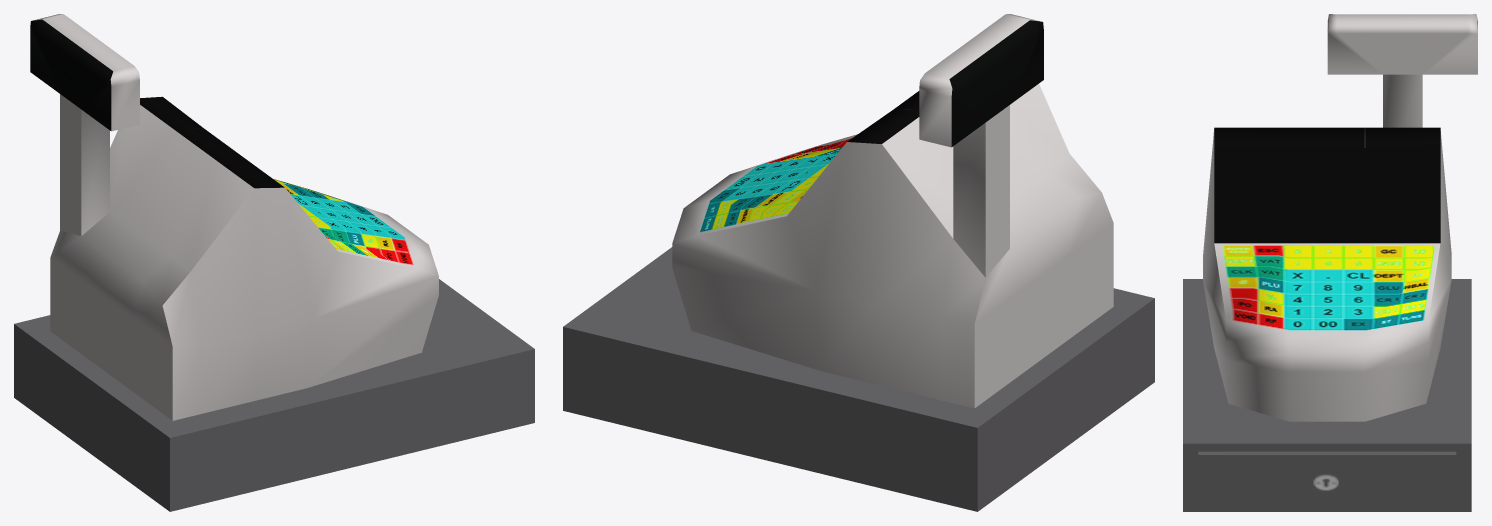
File: obj_cashierRegister.fbx
The picture shows the model from 3 angles, left to right: view 1: azimuth 30°, elevation 25°; view 2: azimuth 150°, elevation 25°; view 3: azimuth 270°, elevation 25°; orthographic projection. The views are drawn at different scales.
Parts seen in each view (by area): view 1: pCube79; view 2: pCube79; view 3: pCube79.
Boxes of the visible parts, left/top/right/bottom form: pCube79: left=14, top=14, right=534, bottom=511; pCube79: left=563, top=14, right=1154, bottom=511; pCube79: left=1183, top=14, right=1477, bottom=511.
Size of the model in its own units: 0.7515 by 0.7204 by 0.5577.
Materials: 1 (1 with a texture image).
